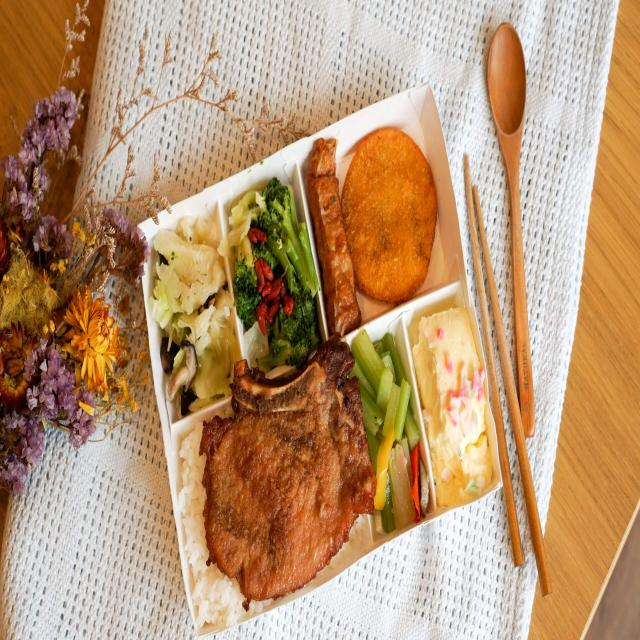Fushan-lettuce: (233, 208, 312, 332)
cauliflower: (160, 243, 232, 381)
meat: (210, 413, 384, 583)
steamed egg: (416, 322, 493, 489)
